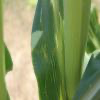Corn rust leaf: (31, 2, 62, 99)
